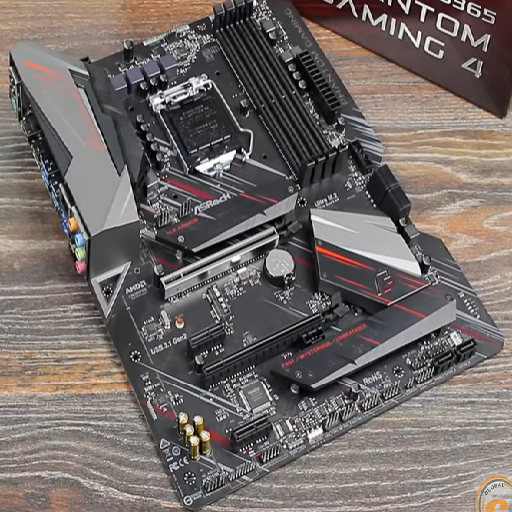CPU: (138, 74, 261, 179)
GPU: (190, 292, 354, 393), (150, 212, 317, 305)
MOTHERBOARD: (9, 4, 505, 491)
RAM: (206, 3, 352, 181)
